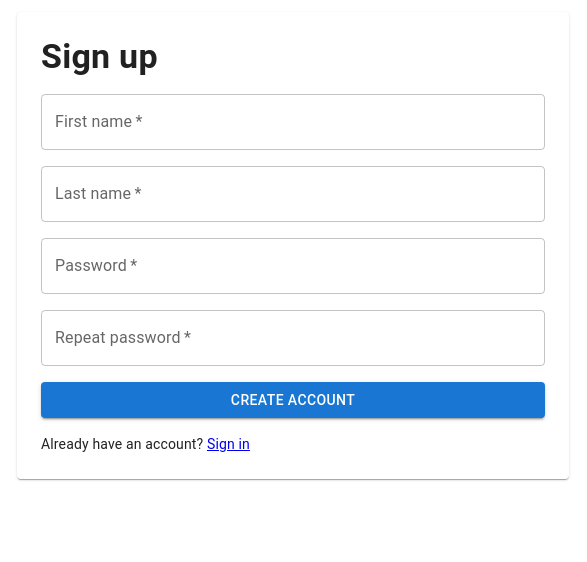
SignUpPage › shows error message from api (Error)
The width and height of the screenshot is (587, 562).
Type "John" into the field labelled "First name *". click: [293, 122]
box: [41,94,545,150]
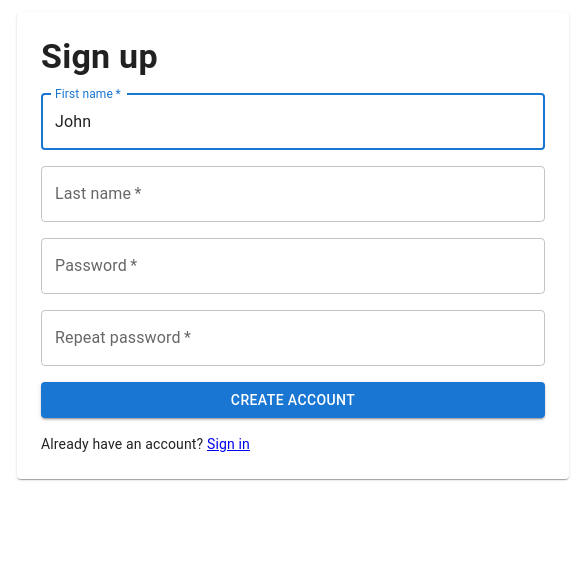
Type "Doe" into the field labelled "Last name *". click: [293, 194]
box: [41,166,545,222]
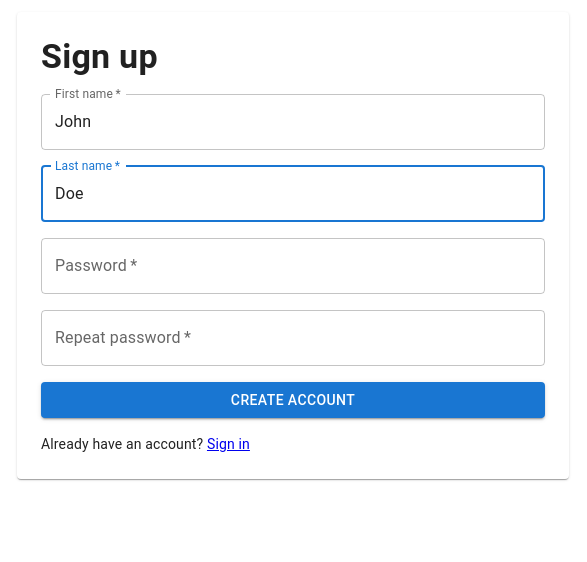
Type "pass123" into the password field labelled "Password *". click: [293, 266]
box: [41,238,545,294]
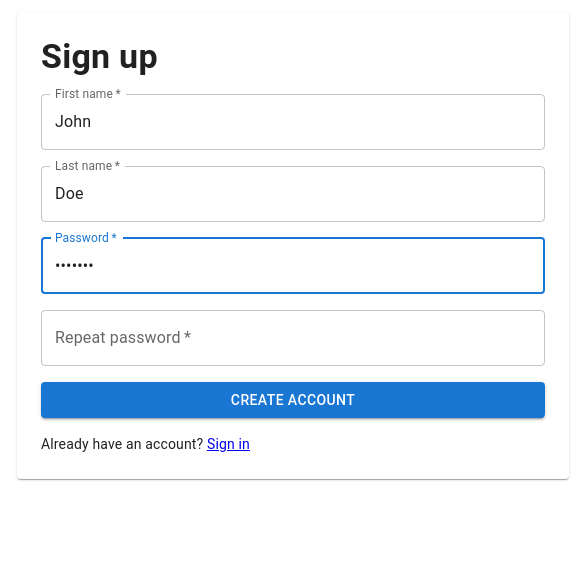
Type "pass123" into the password field labelled "Repeat password *". click: [293, 338]
box: [41,310,545,366]
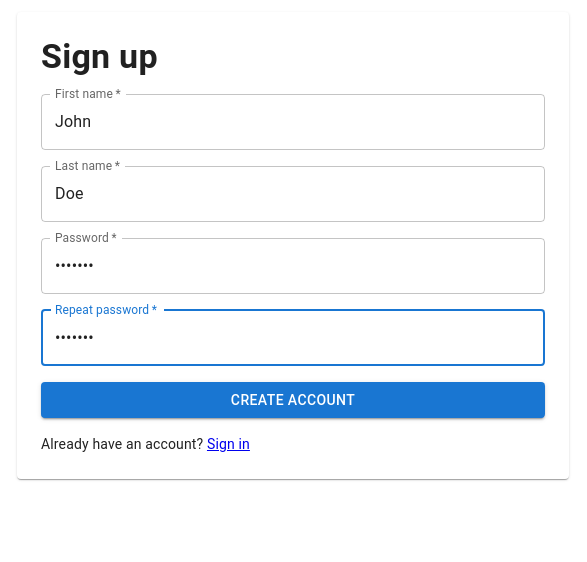
Click the button "Create account". click: [293, 400]
box: [41,382,545,418]
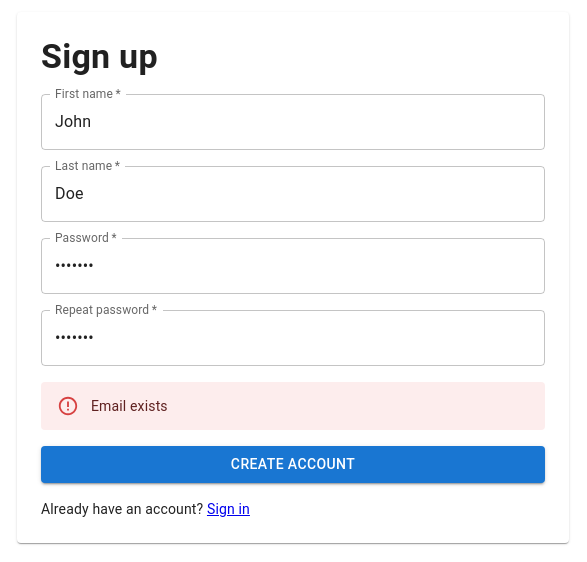
Result: the text "Email exists" is shown at [91,398,168,414]
